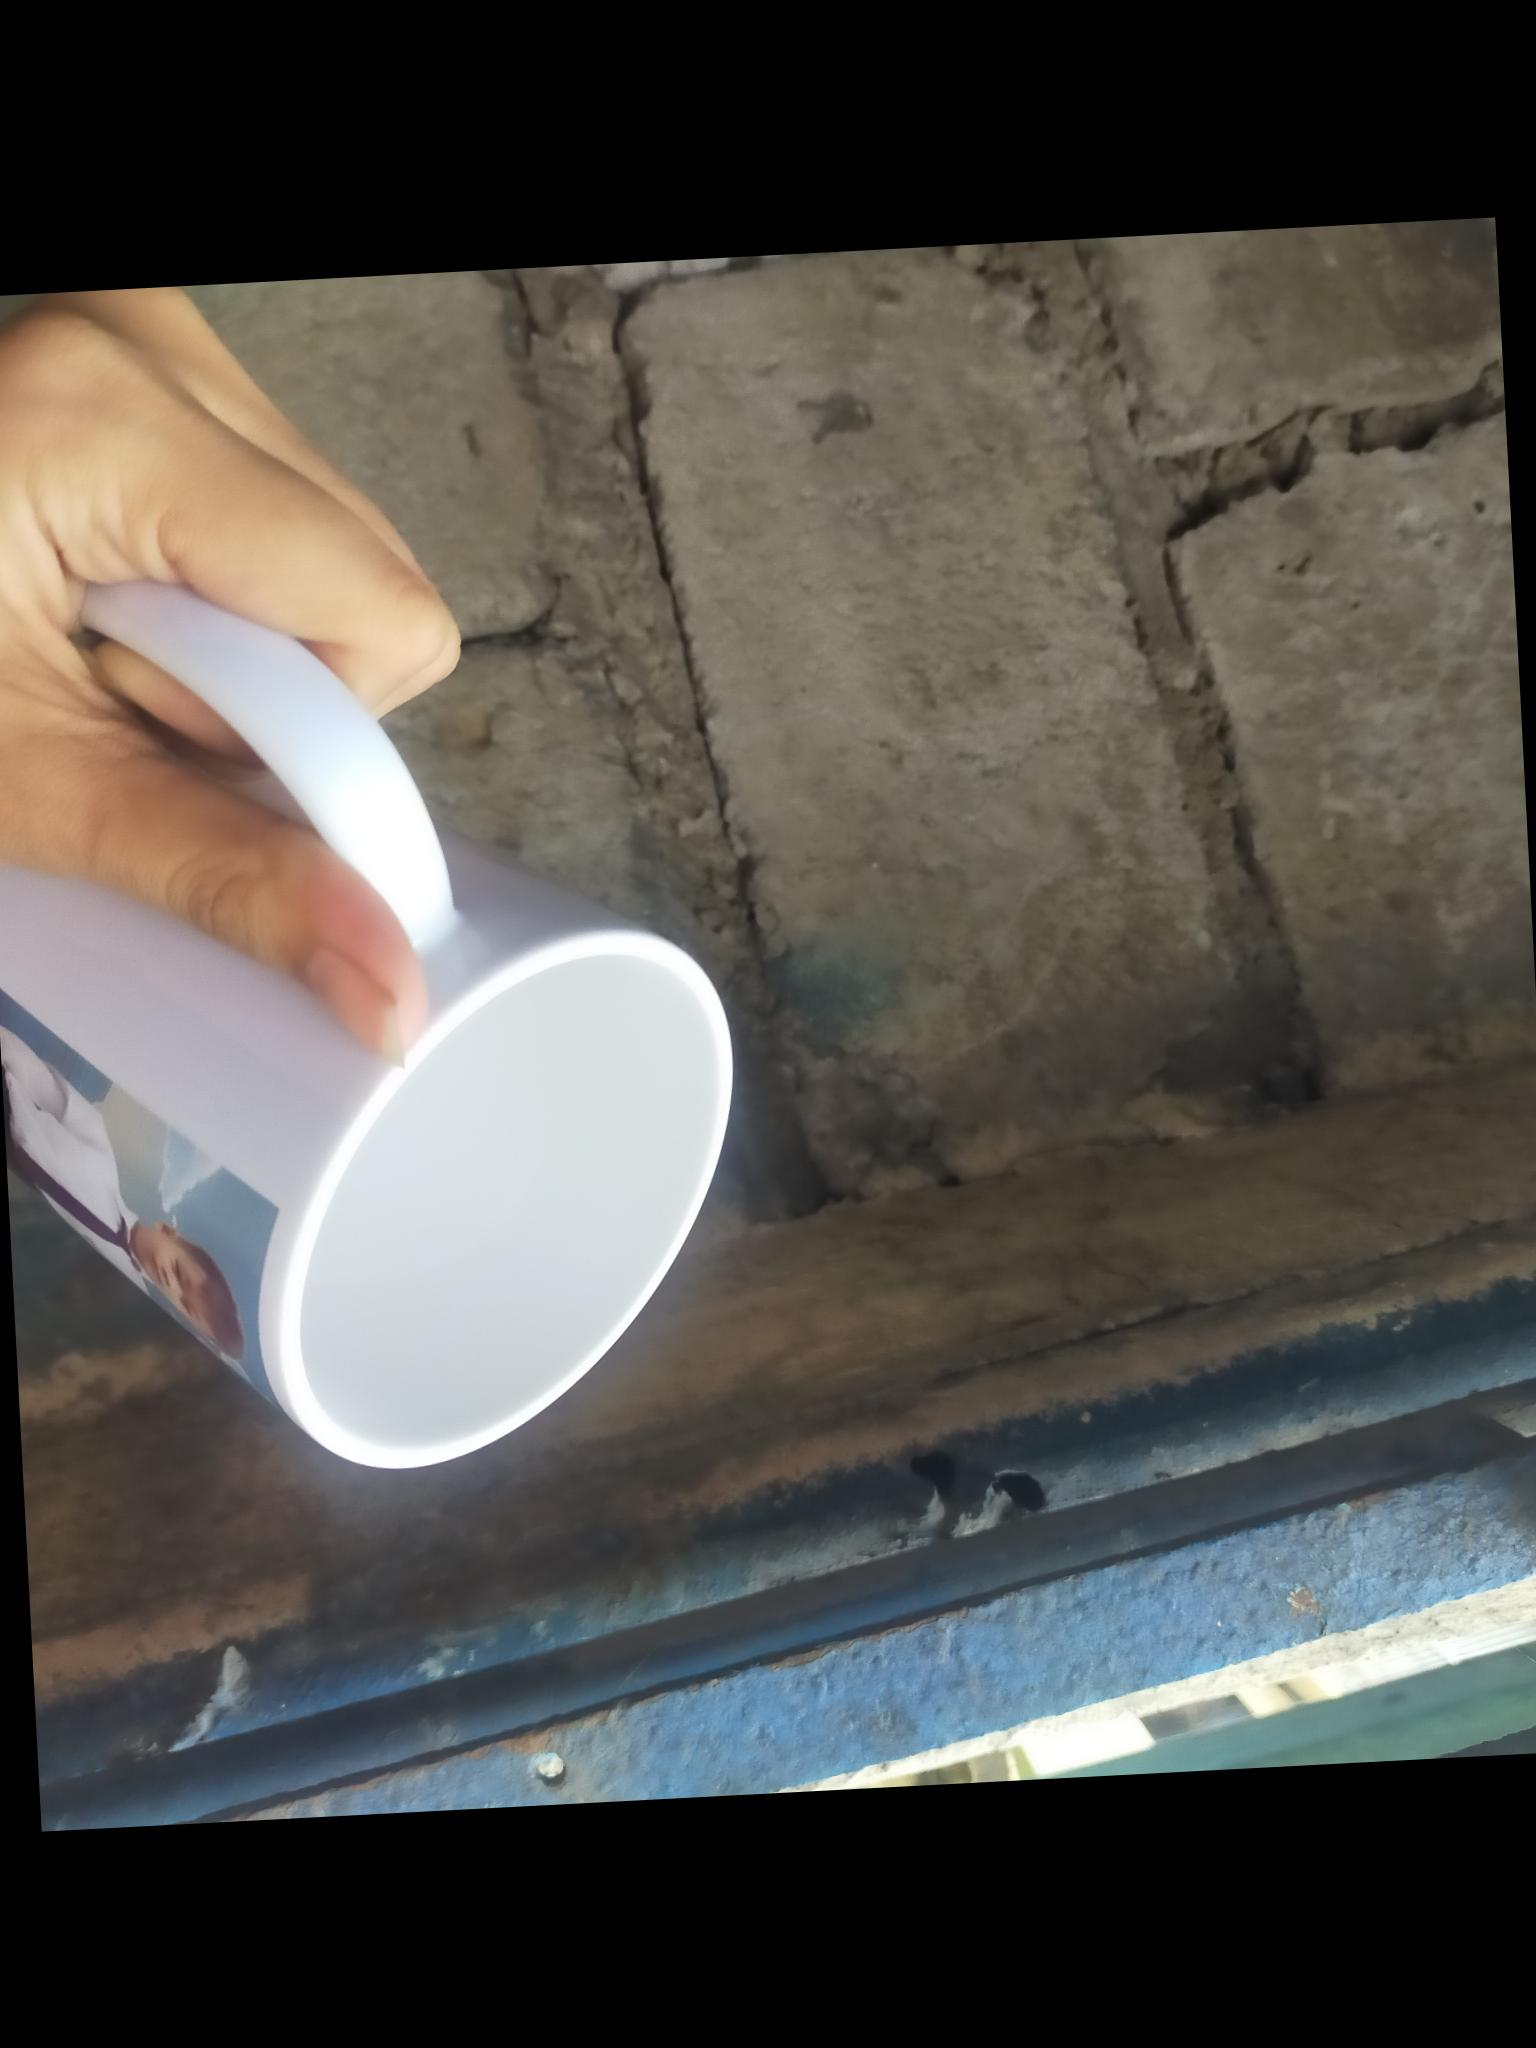Coffee Mug: (0, 550, 753, 1490)
